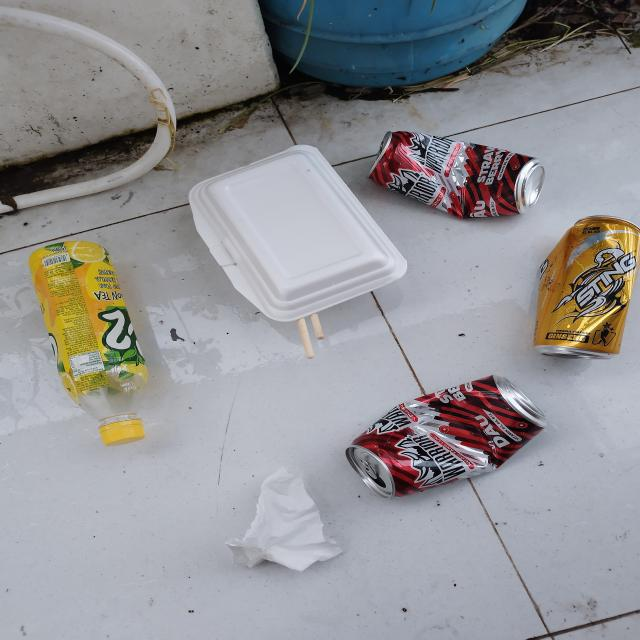bottle: (29, 241, 149, 446)
can: (346, 373, 547, 498), (367, 132, 546, 220), (533, 214, 640, 360)
foam box: (187, 144, 408, 322)
napkin: (225, 465, 345, 573)
